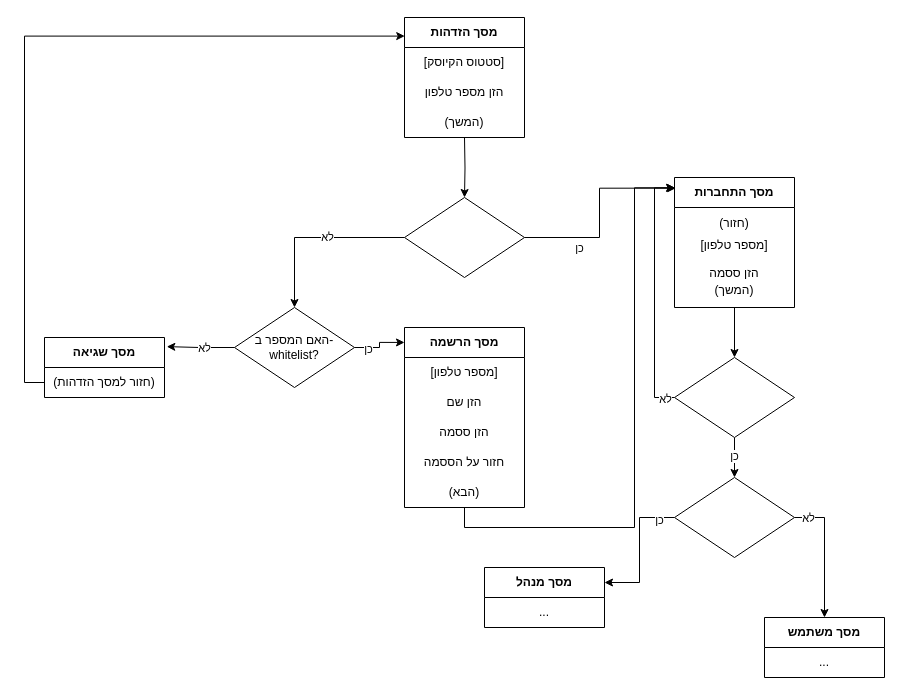
Some shapes in this 902 by 695 pixel diagram are drawn without their labels. Here are the shapes that lost their labels. From the top down, the centre of each, then its label:
At point (464, 237): "האם המספר רשום במערכת?".
At point (734, 397): "האם הססמה נכונה?".
At point (734, 517): "האם זה חשבון מנהל?".
